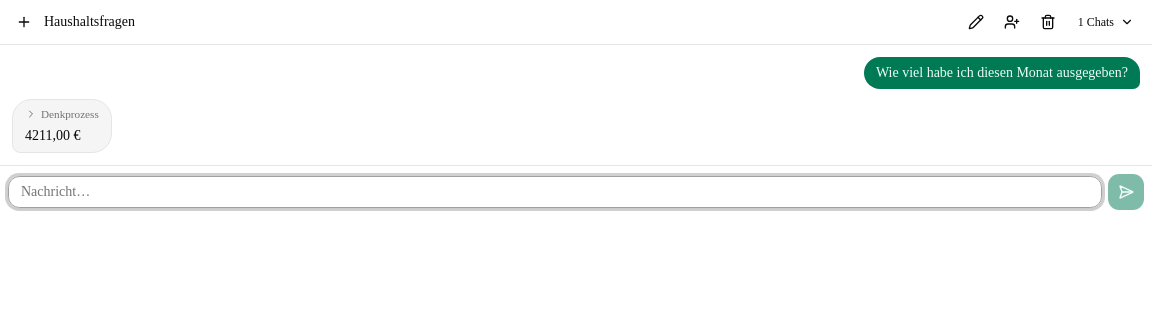
Test: <AgentChat> › discards a retry-flagged round's segment (no Denkprozess-only bubble)
The width and height of the screenshot is (1152, 313).
Expected: the text "4211,00 €" is shown, [25,128,80,143]
Type "Was?" into the field with placeholder "Nachricht…" at (555,192), box [8,176,1102,208]
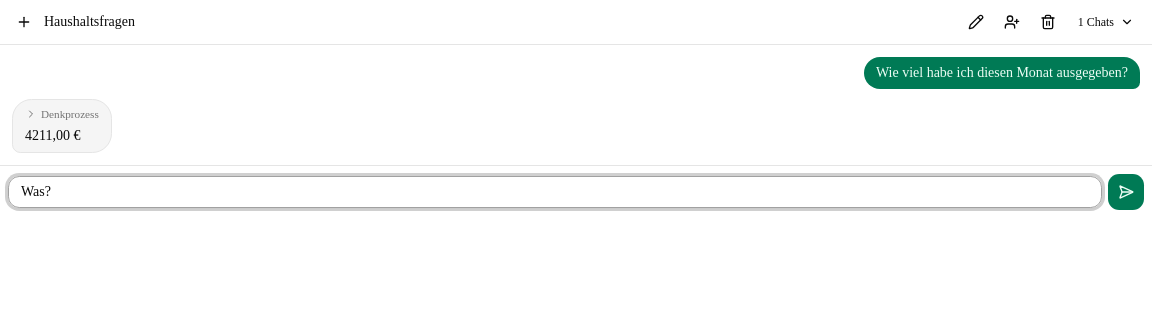
Click the button named "Senden" at (1126,192), box [1108,174,1144,210]
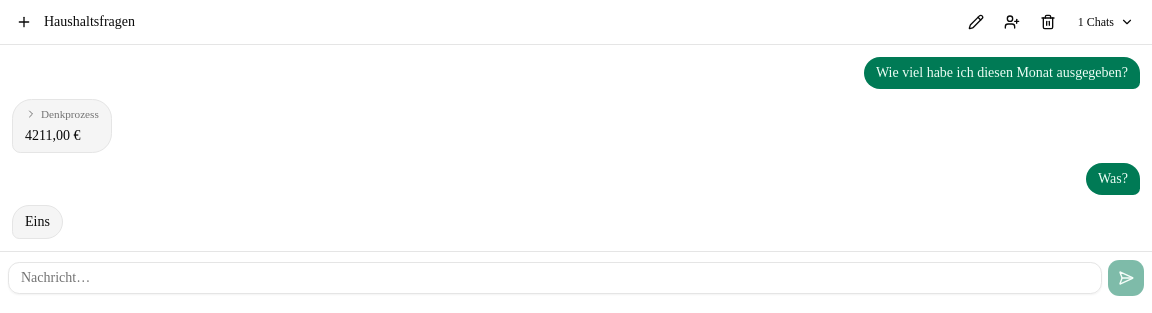
Expected: the number of buttons "Denkprozess" is 1, [25,106,99,122]
Expected: the text "Eins" is shown once, [25,212,50,232]
Expected: the text "Was?" is shown once, [1098,169,1128,189]
